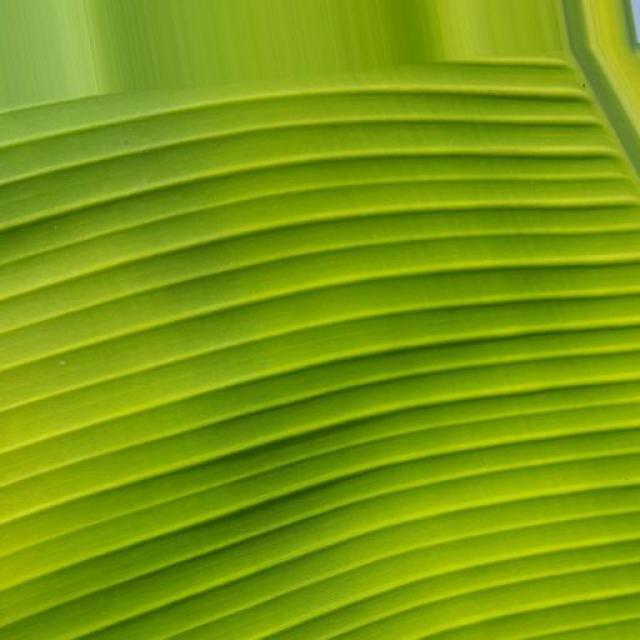Black_leaf_spot: (0, 10, 581, 610)
